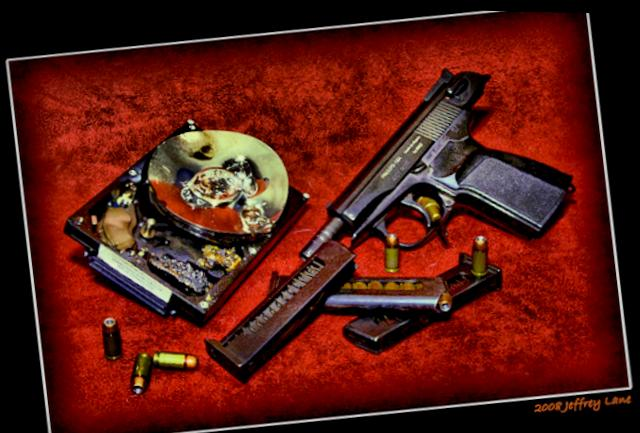pistol: (274, 48, 582, 275)
